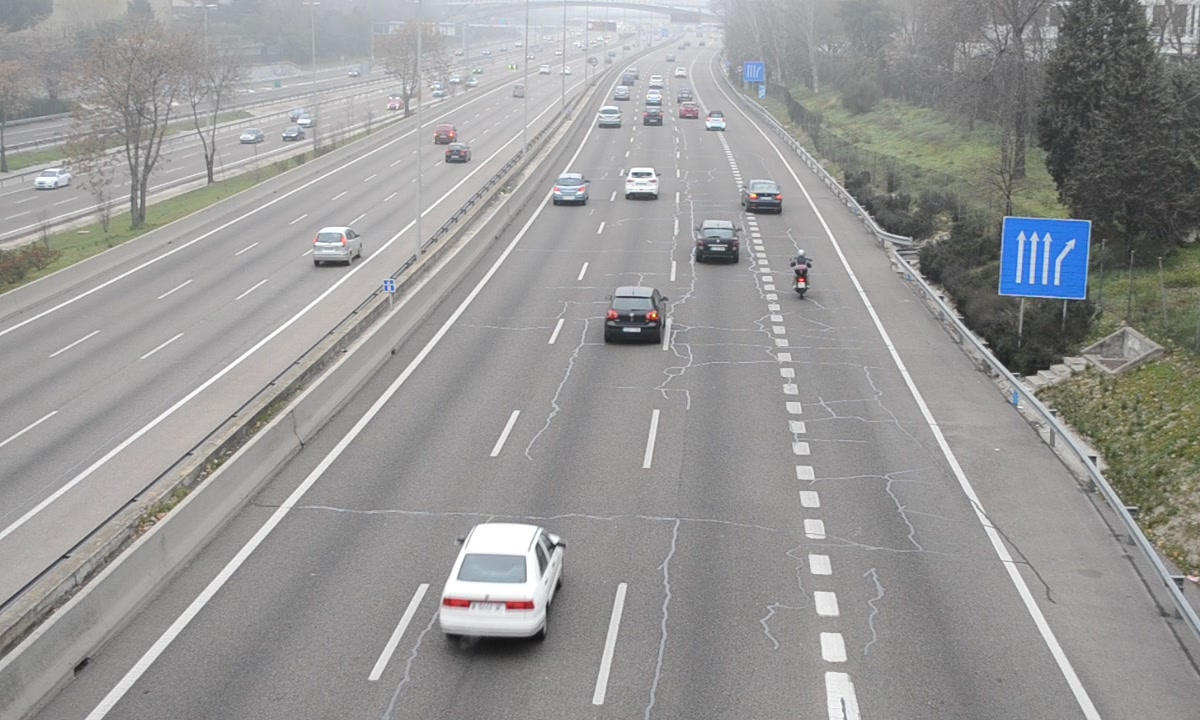car: (440, 523, 566, 636), (601, 285, 665, 341), (697, 220, 741, 264), (743, 179, 784, 215), (551, 171, 590, 204), (625, 167, 662, 200), (597, 102, 619, 127)
motorcycle: (791, 248, 814, 302)
